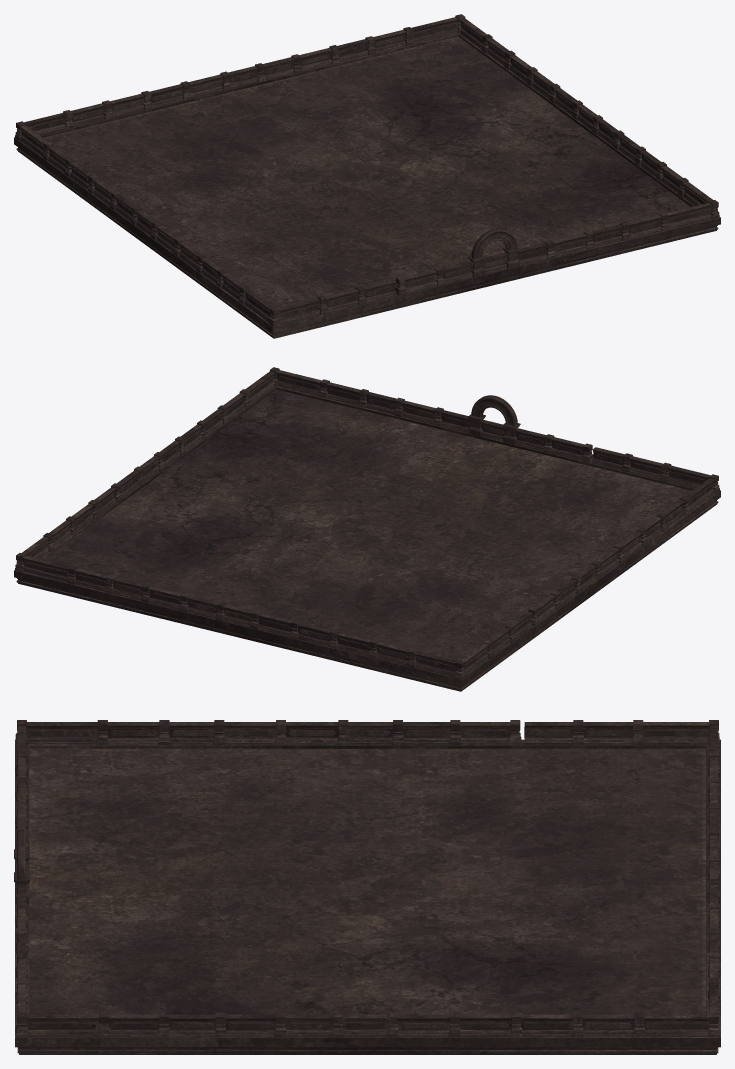
File: SK2 ROOF LARGE.fbx
3 renders of one model, top to bottom at view 1: azimuth 30°, elevation 25°; view 2: azimuth 150°, elevation 25°; view 3: azimuth 270°, elevation 25°, orthographic. The views are drawn at different scales.
Visible parts, largest first — view 1: SK2 ROOF LARGE; view 2: SK2 ROOF LARGE; view 3: SK2 ROOF LARGE.
Boxes of the visible parts, x1,y1,x2,y2 form: SK2 ROOF LARGE: (14,14,720,338); SK2 ROOF LARGE: (14,367,720,691); SK2 ROOF LARGE: (14,720,720,1054).
Size of the model in its own units: 2072 by 241 by 2075.
